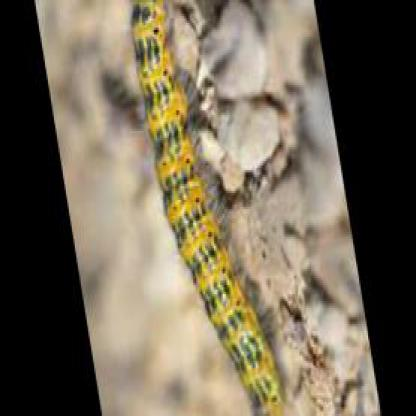pieris: (125, 2, 285, 414)
